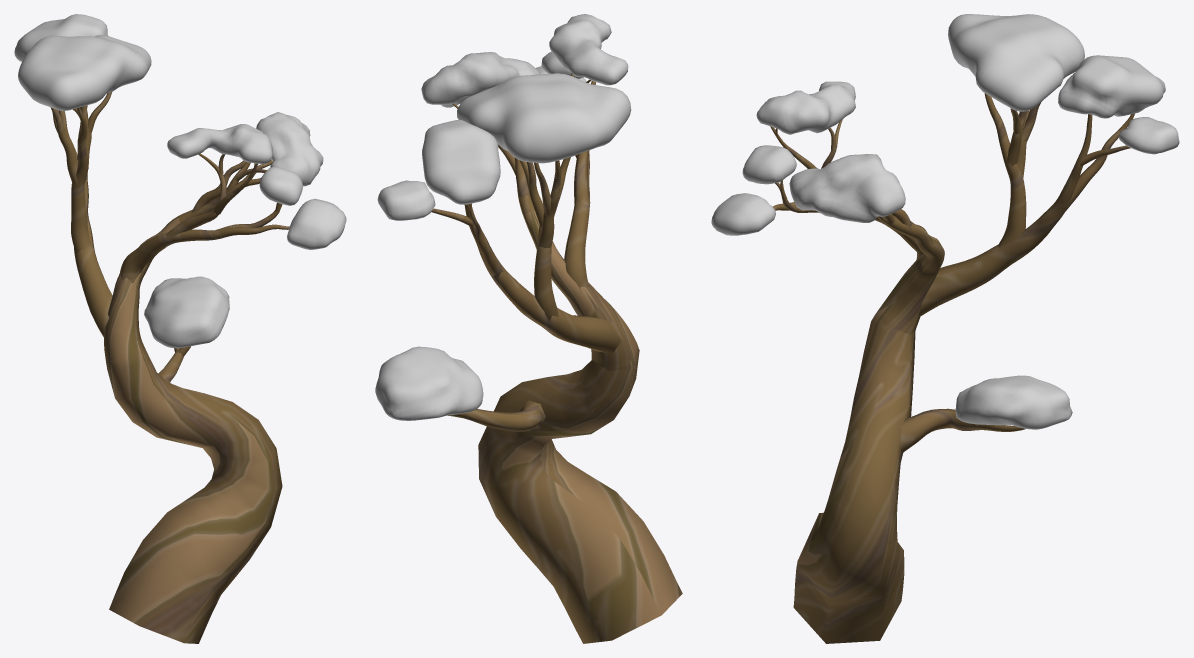
Rendered from SM_Trees_Wuyin_01.fbx.
The picture shows the model from 3 angles, left to right: view 1: azimuth 30°, elevation 25°; view 2: azimuth 150°, elevation 25°; view 3: azimuth 270°, elevation 25°; orthographic projection. The views are drawn at different scales.
Visible parts, largest first — view 1: SM_Trees_Wuyin_01_Bark_LOD0, SM_Trees_Wuyin_01_leaves_LOD0; view 2: SM_Trees_Wuyin_01_Bark_LOD0, SM_Trees_Wuyin_01_leaves_LOD0; view 3: SM_Trees_Wuyin_01_Bark_LOD0, SM_Trees_Wuyin_01_leaves_LOD0.
Boxes of the visible parts, x1=… form: SM_Trees_Wuyin_01_Bark_LOD0: x1=50, y1=92, x2=289, y2=643; SM_Trees_Wuyin_01_leaves_LOD0: x1=14, y1=14, x2=346, y2=348; SM_Trees_Wuyin_01_Bark_LOD0: x1=431, y1=73, x2=682, y2=643; SM_Trees_Wuyin_01_leaves_LOD0: x1=375, y1=14, x2=631, y2=420; SM_Trees_Wuyin_01_Bark_LOD0: x1=770, y1=93, x2=1134, y2=643; SM_Trees_Wuyin_01_leaves_LOD0: x1=711, y1=14, x2=1179, y2=429.
Size of what is drawn, in the model's own units: 752 by 1740 by 1233.
